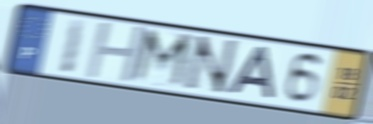6: (282, 51, 325, 106)
A: (225, 44, 277, 102)
H: (83, 21, 150, 84)
I: (57, 16, 89, 77)
M: (129, 26, 197, 92)
N: (179, 33, 241, 97)
